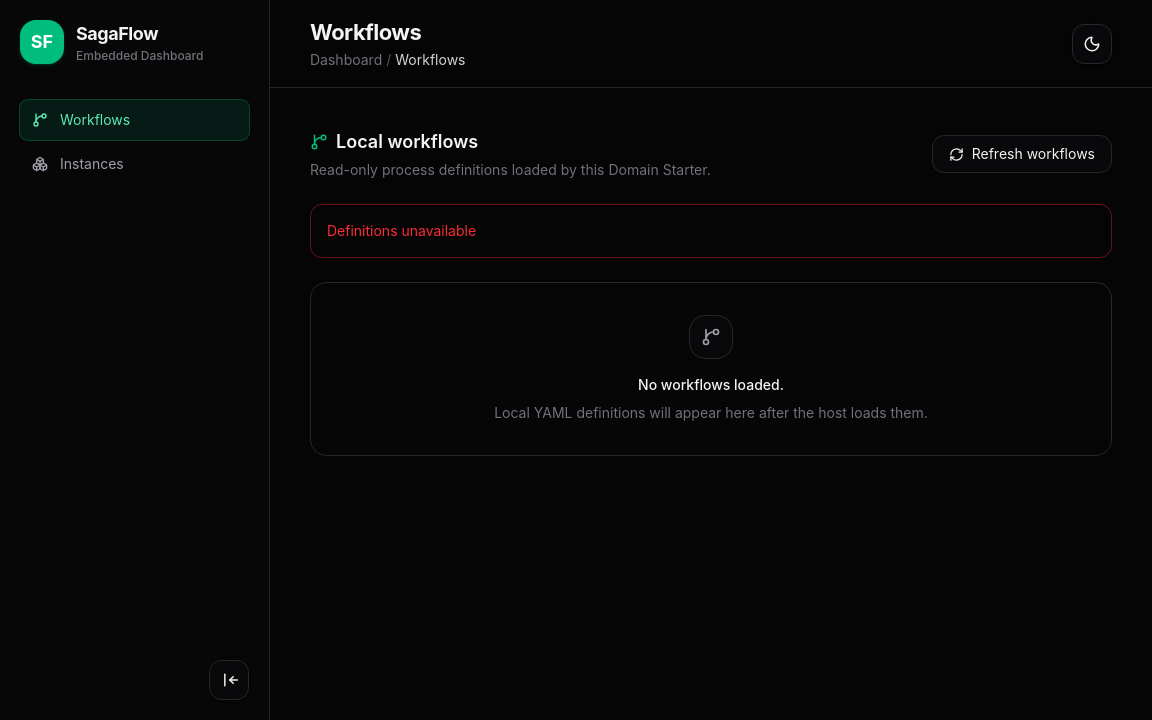
Test: workflow navigation › shows load failures and supports retry without displaying a fake workflow
Expected: the message reads "Definitions unavailable", top-left (327, 222), bottom-right (476, 239)
Expected: the button "order-process" is not shown
Click the button "Refresh workflows" at (1022, 154), box top-left (932, 135), bottom-right (1112, 173)
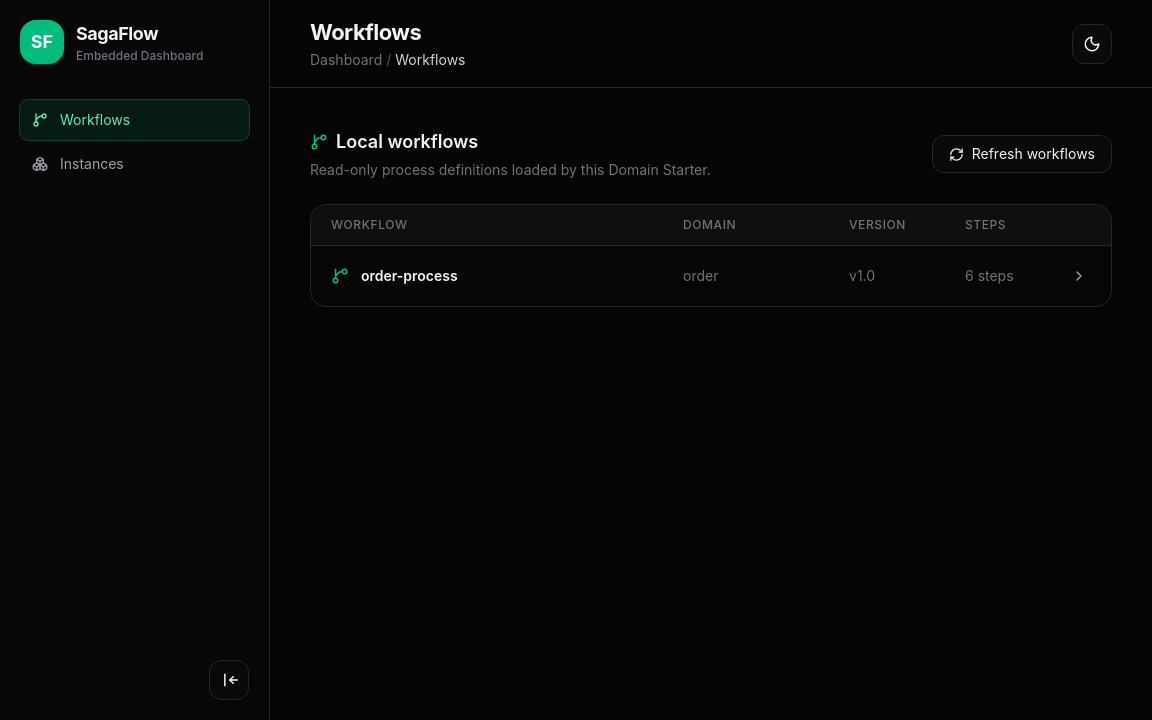
Now the button "order-process order v1.0 6 steps" is shown, box top-left (311, 246), bottom-right (1111, 306)
